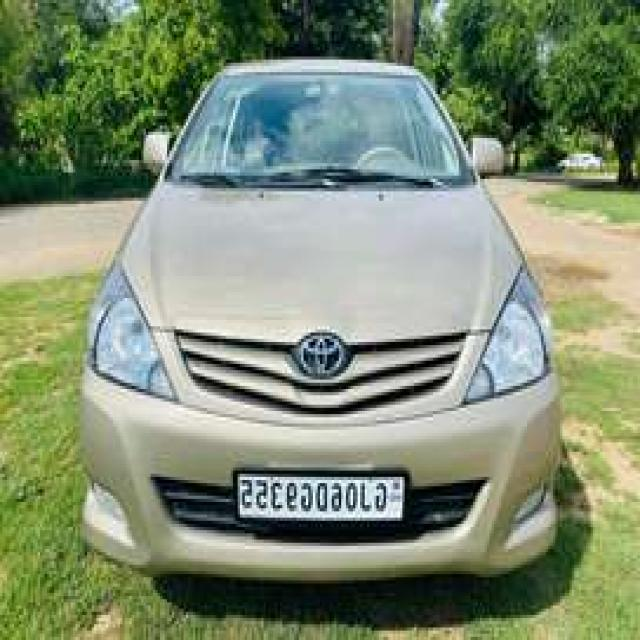license_plate: (232, 466, 408, 530)
